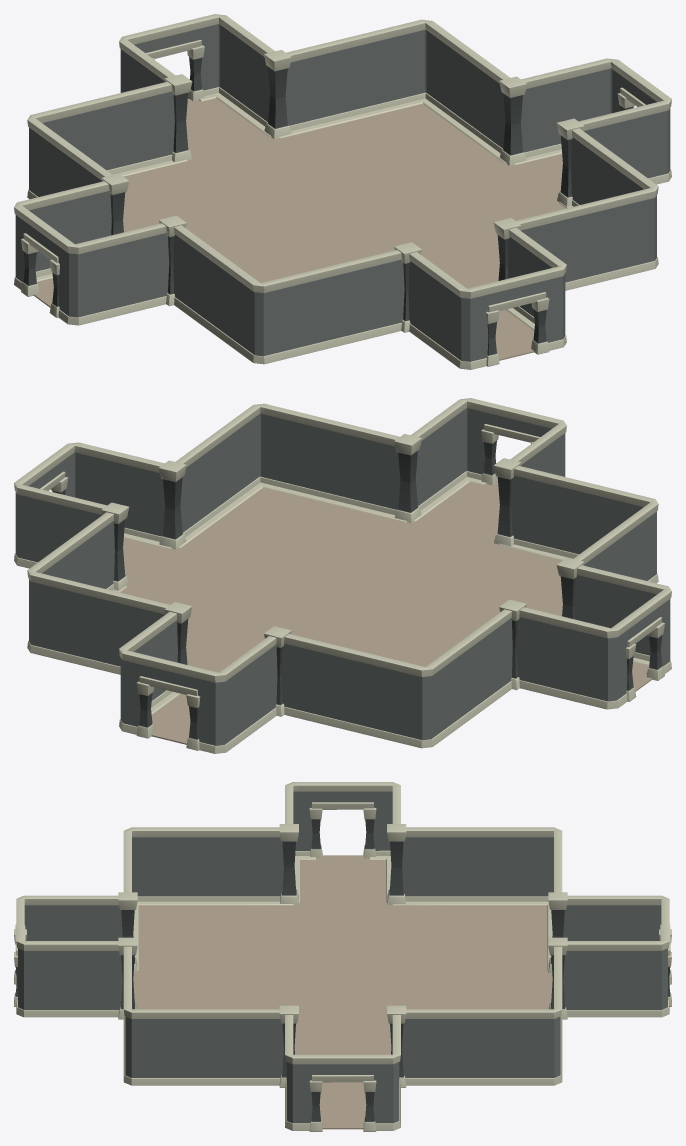
File: RoomMedx4.fbx
3 views of the same model, one above another, from view 1: azimuth 30°, elevation 25°; view 2: azimuth 150°, elevation 25°; view 3: azimuth 270°, elevation 25° (orthographic). The views are drawn at different scales.
Visible parts, largest first — view 1: WallLargeToMed.002; view 2: WallLargeToMed.002; view 3: WallLargeToMed.002.
Part boxes in pixels (x1,y1,x2,y2): WallLargeToMed.002: (14, 14, 671, 369); WallLargeToMed.002: (14, 398, 671, 753); WallLargeToMed.002: (14, 782, 671, 1131).
Bounding box in the file's own units: 4896 × 610 × 4896.
